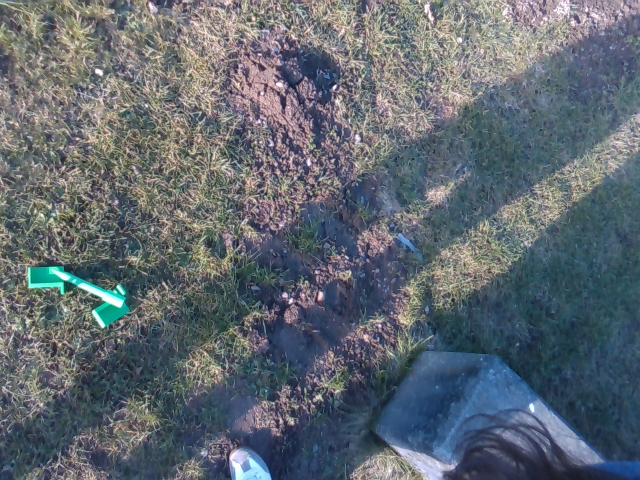Probe: (49, 264, 125, 310)
